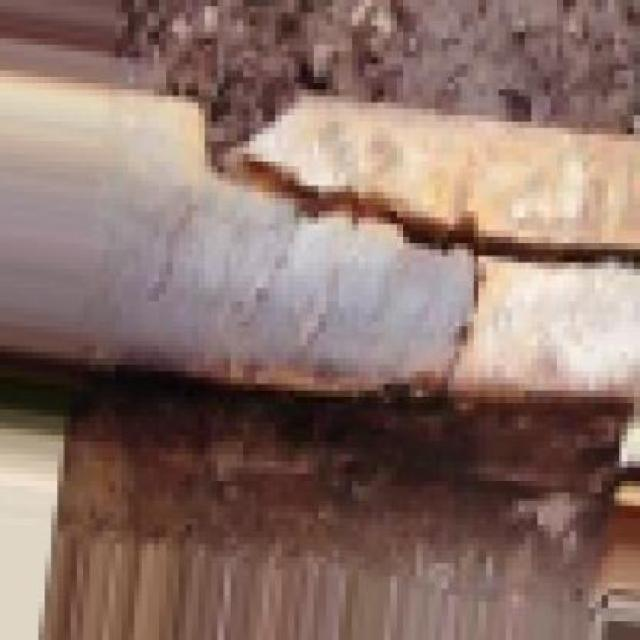defective: (0, 24, 609, 592)
